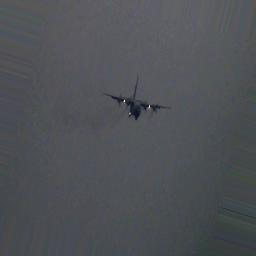Airplane: (103, 75, 172, 122)
